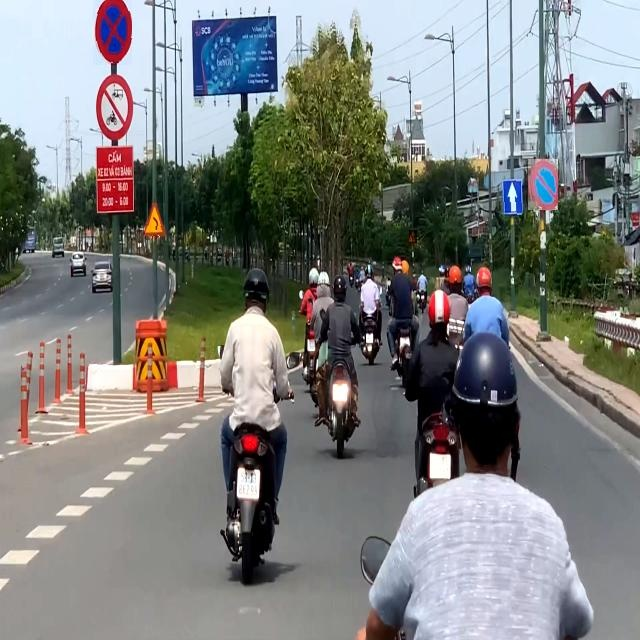bien_cam: (93, 0, 132, 65), (528, 159, 558, 210), (502, 179, 522, 215), (145, 203, 165, 236), (409, 230, 417, 243)
